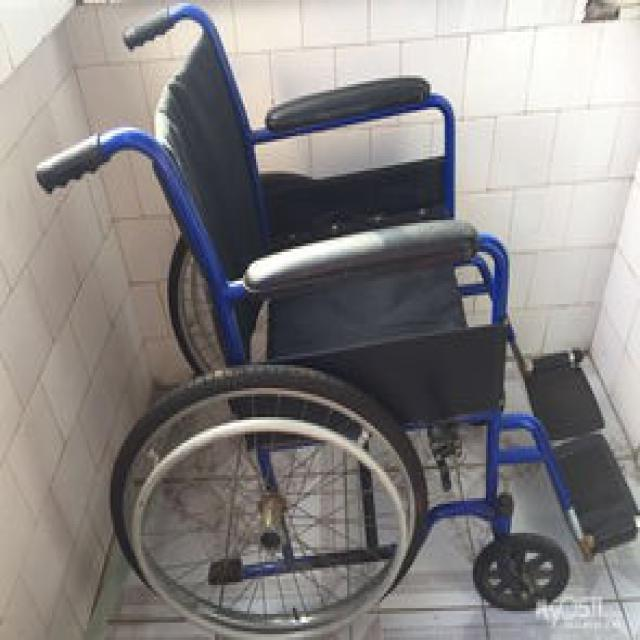wheelchairs: (36, 9, 640, 640)
